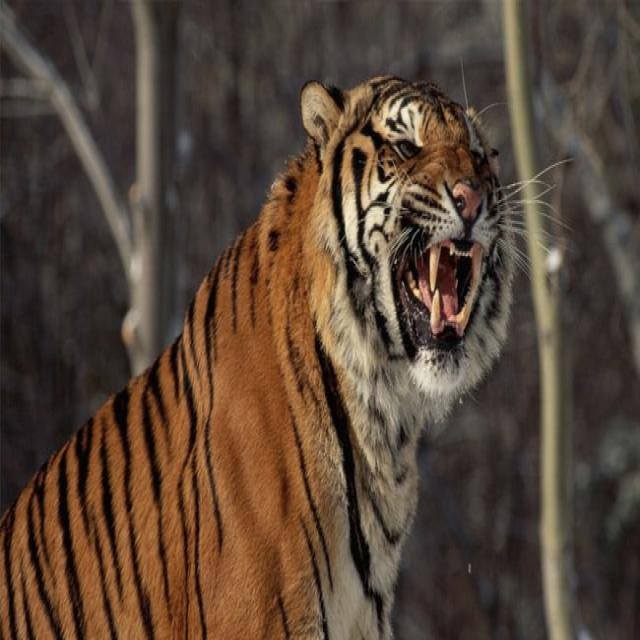tiger: (0, 77, 564, 638)
